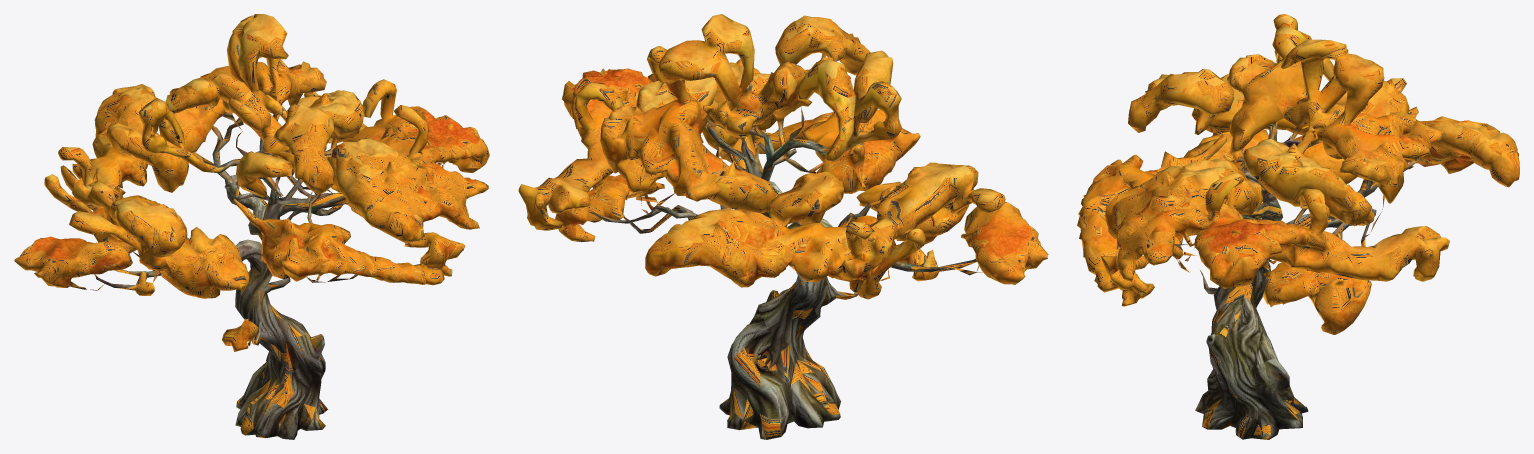
Rendered from Ember_Tree.glb.
3 views of the same model, side by side, from view 1: azimuth 30°, elevation 25°; view 2: azimuth 150°, elevation 25°; view 3: azimuth 270°, elevation 25° (orthographic). The views are drawn at different scales.
Parts seen in each view (by area): view 1: Ember_Tree; view 2: Ember_Tree; view 3: Ember_Tree.
Part boxes in pixels (bbox=[...]): Ember_Tree: bbox=[14, 14, 489, 439]; Ember_Tree: bbox=[518, 14, 1048, 439]; Ember_Tree: bbox=[1077, 14, 1519, 439].
Bounding box in the file's own units: 1.89 × 1.54 × 1.59.
1 material, 1 textured.
